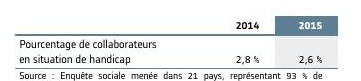table: (0, 0, 361, 81)
